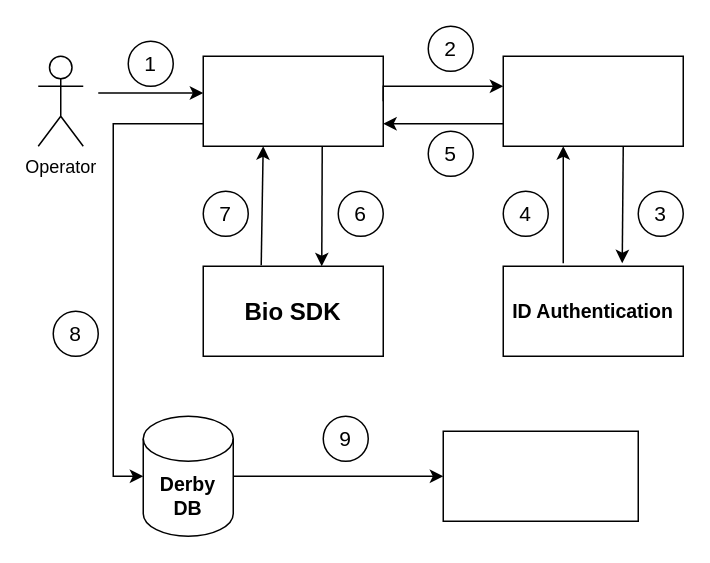
Image size: 710x563. Some labels were removed from this diagram. Each missing label, with the centre of its shape:
"Registration Client" goes at pixel 292 100.
"Registration Flow" goes at pixel 540 475.
"Registration Processor" goes at pixel 592 100.
